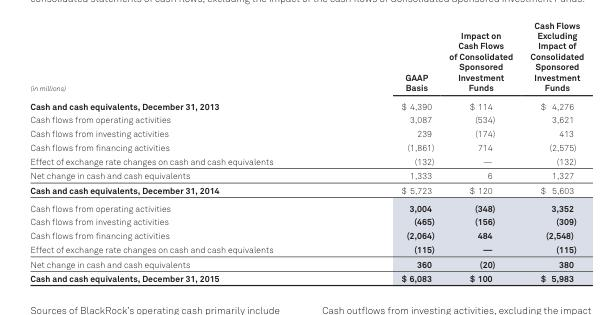table: (29, 29, 583, 283)
table column: (29, 29, 336, 283), (336, 29, 441, 283), (441, 29, 520, 283), (520, 29, 583, 283)
table column header: (29, 29, 583, 96)
table row: (29, 29, 583, 96), (29, 96, 583, 112), (29, 182, 583, 198), (29, 198, 583, 214), (29, 112, 583, 126), (29, 126, 583, 140), (29, 140, 583, 154), (29, 154, 583, 168), (29, 168, 583, 182), (29, 214, 583, 228), (29, 228, 583, 242), (29, 242, 583, 256), (29, 256, 583, 270), (29, 270, 583, 283)
